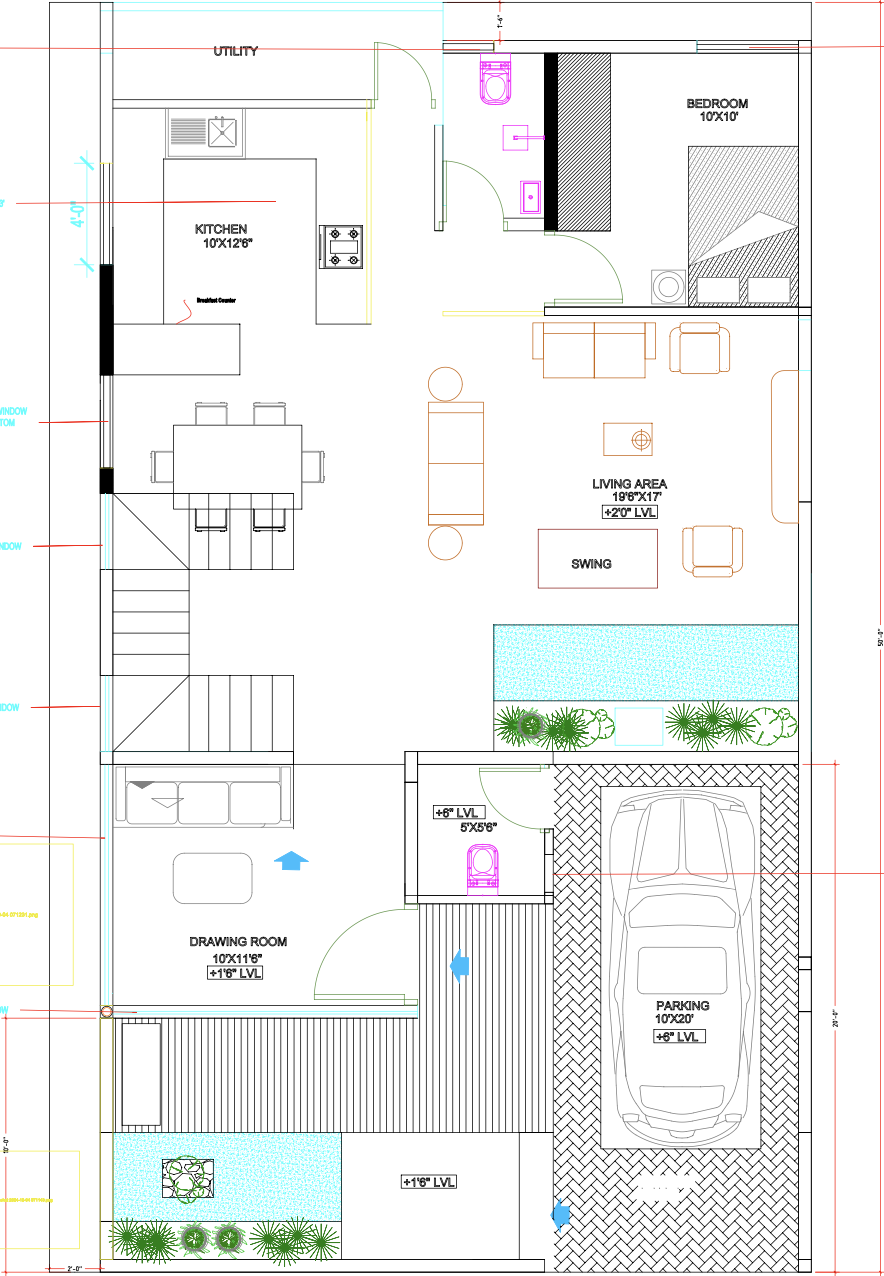door: (312, 904, 413, 1009), (549, 232, 625, 307), (477, 764, 553, 832), (440, 156, 507, 232), (372, 36, 436, 108)
